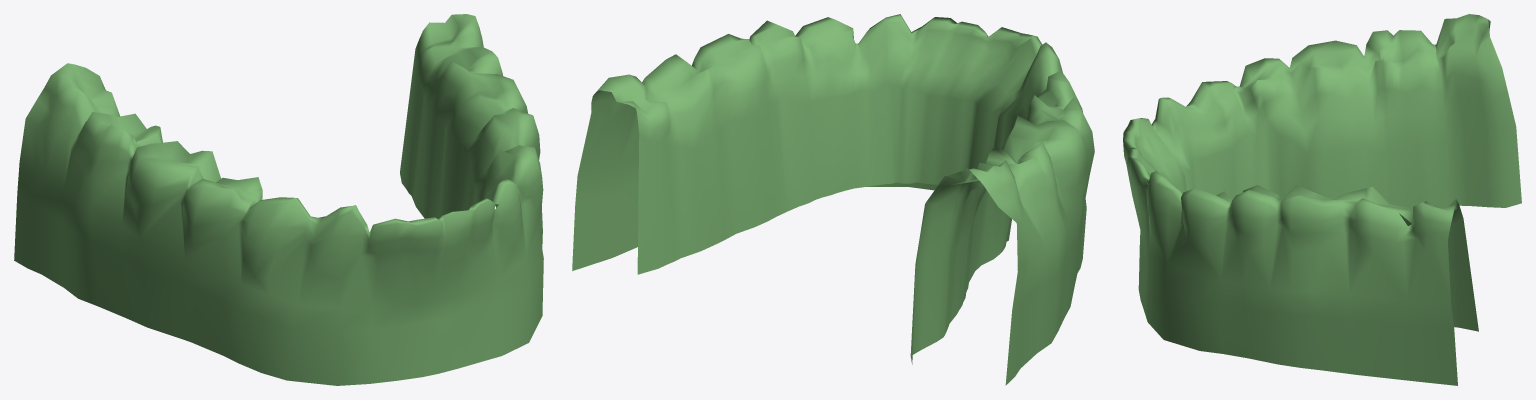
File: SM_low_jaw.fbx
The picture shows the model from 3 angles, left to right: view 1: azimuth 30°, elevation 25°; view 2: azimuth 150°, elevation 25°; view 3: azimuth 270°, elevation 25°; orthographic projection. The views are drawn at different scales.
Visible parts, largest first — view 1: Low_Lowerjaw; view 2: Low_Lowerjaw; view 3: Low_Lowerjaw.
Boxes of the visible parts, x1,y1,x2,y2 form: Low_Lowerjaw: (14,14,543,385); Low_Lowerjaw: (572,14,1094,385); Low_Lowerjaw: (1123,14,1521,385).
Size of the model in its own units: 163 by 75.05 by 138.
